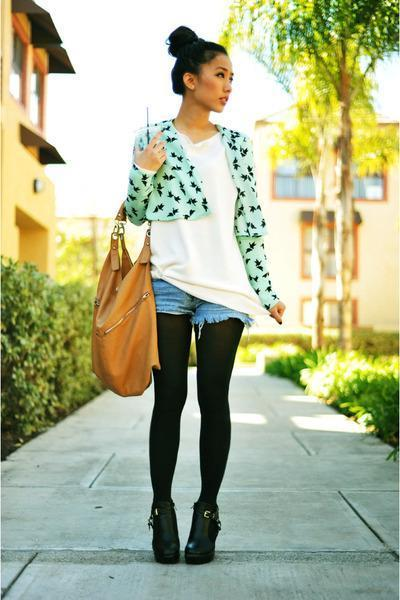Shorts: (147, 275, 251, 326)
short sleeve shirt: (150, 133, 262, 310)
sweater: (127, 121, 284, 310)
